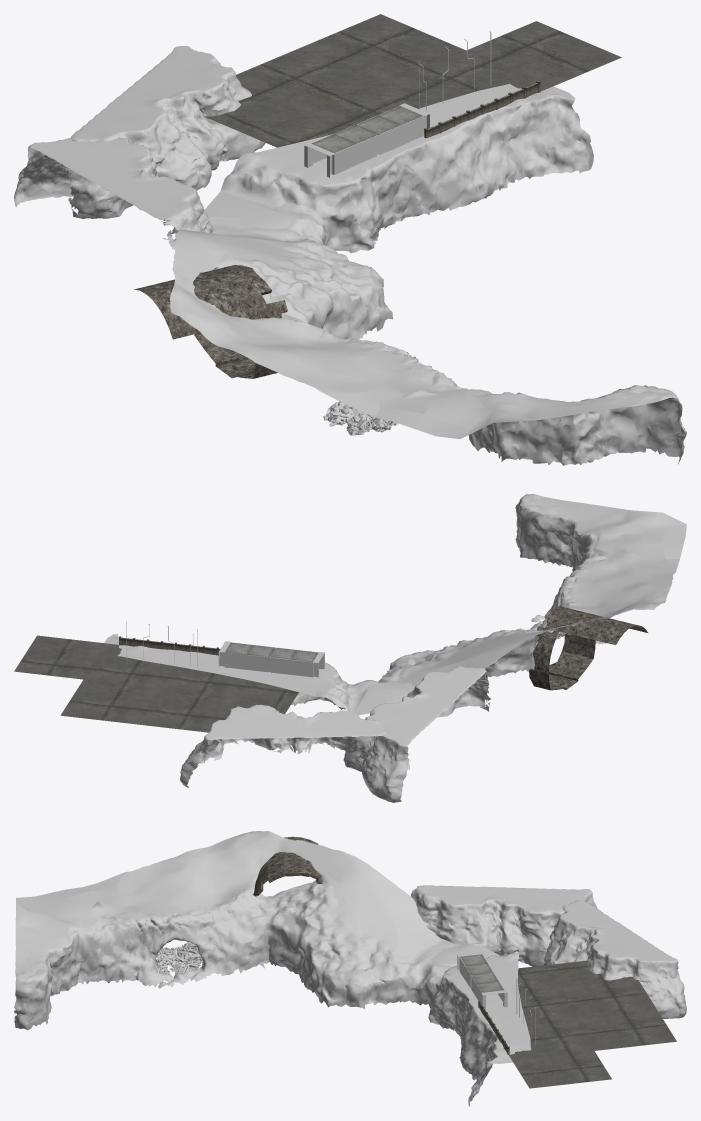
The model's file is Distant01.fbx.
3 views of the same model, one above another, from view 1: azimuth 30°, elevation 25°; view 2: azimuth 150°, elevation 25°; view 3: azimuth 270°, elevation 25° (orthographic). The views are drawn at different scales.
Parts seen in each view (by area): view 1: LODGroup_1_MainMesh_1_SubMesh_9, LODGroup_1_MainMesh_1_SubMesh_3, LODGroup_1_MainMesh_1_SubMesh_8, LODGroup_1_MainMesh_1_SubMesh_6, LODGroup_1_MainMesh_1_SubMesh_4, LODGroup_1_MainMesh_1_SubMesh_7, LODGroup_1_MainMesh_1_SubMesh_10; view 2: LODGroup_1_MainMesh_1_SubMesh_9, LODGroup_1_MainMesh_1_SubMesh_3, LODGroup_1_MainMesh_1_SubMesh_8, LODGroup_1_MainMesh_1_SubMesh_6, LODGroup_1_MainMesh_1_SubMesh_4, LODGroup_1_MainMesh_1_SubMesh_10; view 3: LODGroup_1_MainMesh_1_SubMesh_9, LODGroup_1_MainMesh_1_SubMesh_3, LODGroup_1_MainMesh_1_SubMesh_8, LODGroup_1_MainMesh_1_SubMesh_4, LODGroup_1_MainMesh_2_SubMesh_2, LODGroup_1_MainMesh_1_SubMesh_6.
Part boxes in pixels (bbox=[...]): LODGroup_1_MainMesh_1_SubMesh_9: bbox=[14, 46, 686, 465]; LODGroup_1_MainMesh_1_SubMesh_3: bbox=[205, 14, 621, 147]; LODGroup_1_MainMesh_1_SubMesh_8: bbox=[134, 265, 287, 378]; LODGroup_1_MainMesh_1_SubMesh_6: bbox=[304, 114, 429, 177]; LODGroup_1_MainMesh_1_SubMesh_4: bbox=[312, 106, 422, 152]; LODGroup_1_MainMesh_1_SubMesh_7: bbox=[323, 401, 398, 435]; LODGroup_1_MainMesh_1_SubMesh_10: bbox=[424, 80, 540, 138]; LODGroup_1_MainMesh_1_SubMesh_9: bbox=[104, 494, 686, 802]; LODGroup_1_MainMesh_1_SubMesh_3: bbox=[14, 635, 298, 739]; LODGroup_1_MainMesh_1_SubMesh_8: bbox=[529, 606, 647, 690]; LODGroup_1_MainMesh_1_SubMesh_6: bbox=[218, 652, 324, 677]; LODGroup_1_MainMesh_1_SubMesh_4: bbox=[225, 642, 318, 661]; LODGroup_1_MainMesh_1_SubMesh_10: bbox=[119, 636, 220, 655]; LODGroup_1_MainMesh_1_SubMesh_9: bbox=[14, 831, 686, 1106]; LODGroup_1_MainMesh_1_SubMesh_3: bbox=[509, 960, 676, 1088]; LODGroup_1_MainMesh_1_SubMesh_8: bbox=[253, 836, 322, 896]; LODGroup_1_MainMesh_1_SubMesh_4: bbox=[460, 954, 503, 992]; LODGroup_1_MainMesh_2_SubMesh_2: bbox=[155, 948, 202, 976]; LODGroup_1_MainMesh_1_SubMesh_6: bbox=[457, 955, 507, 1009].
Size of the model in its own units: 16667 by 3069 by 21282.
